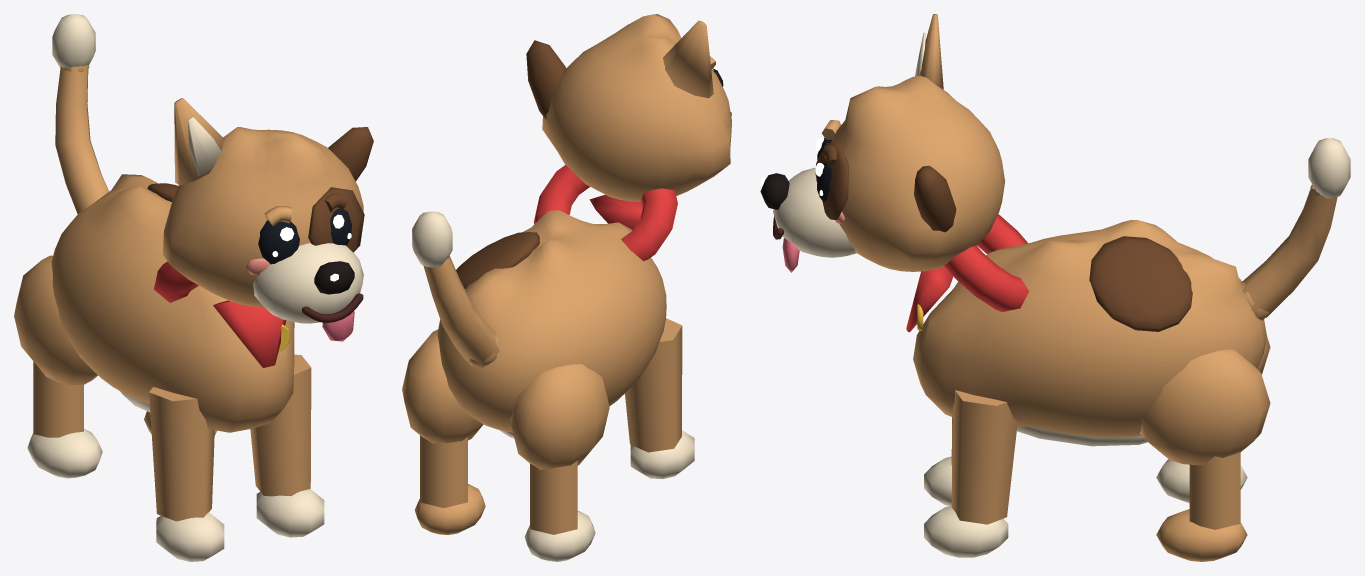
Rendered from npc_dog.glb.
3 renders of one model, left to right at view 1: azimuth 30°, elevation 25°; view 2: azimuth 150°, elevation 25°; view 3: azimuth 270°, elevation 25°, orthographic. The views are drawn at different scales.
Visible parts, largest first — view 1: Body, Head, LegL2, LegL, LegR, Tail; view 2: Body, Head, LegL2, LegR2, LegL, Tail; view 3: Body, Head, LegR2, LegR, Tail, LegL2, LegL.
Part boxes in pixels (left/top/right/bottom): Body: left=51, top=174, right=294, bottom=432; Head: left=163, top=98, right=373, bottom=341; LegL2: left=14, top=255, right=102, bottom=478; LegL: left=149, top=387, right=224, bottom=561; LegR: left=250, top=354, right=324, bottom=537; Tail: left=52, top=14, right=108, bottom=213; Body: left=437, top=165, right=677, bottom=438; Head: left=526, top=14, right=731, bottom=202; LegL2: left=510, top=364, right=609, bottom=561; LegR2: left=402, top=329, right=485, bottom=534; LegL: left=625, top=318, right=694, bottom=479; Tail: left=412, top=211, right=499, bottom=367; Body: left=906, top=214, right=1266, bottom=446; Head: left=760, top=14, right=1004, bottom=272; LegR2: left=1140, top=349, right=1270, bottom=561; LegR: left=924, top=390, right=1017, bottom=557; Tail: left=1241, top=138, right=1350, bottom=320; LegL2: left=1156, top=335, right=1270, bottom=503; LegL: left=924, top=417, right=952, bottom=505.
Size of the model in its own units: 0.3328 by 0.7158 by 0.8005.
